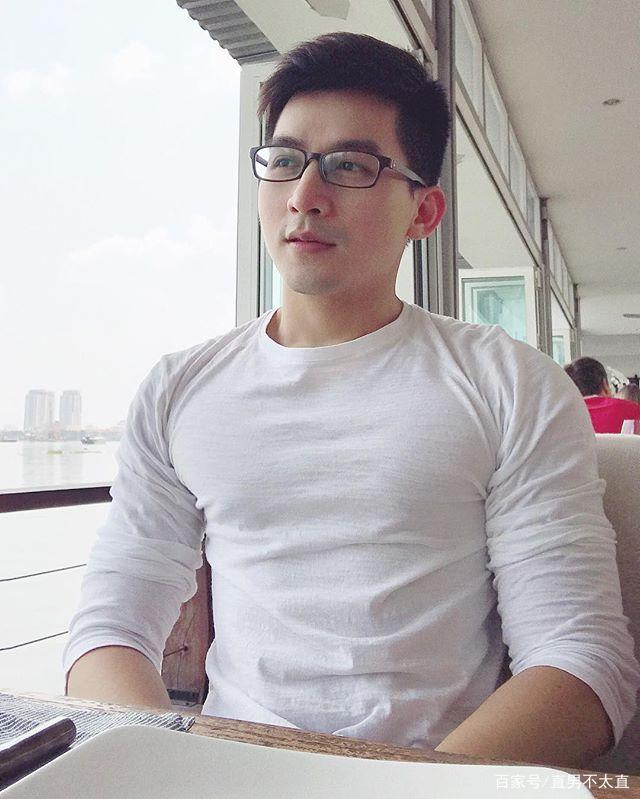person: (103, 41, 566, 659)
